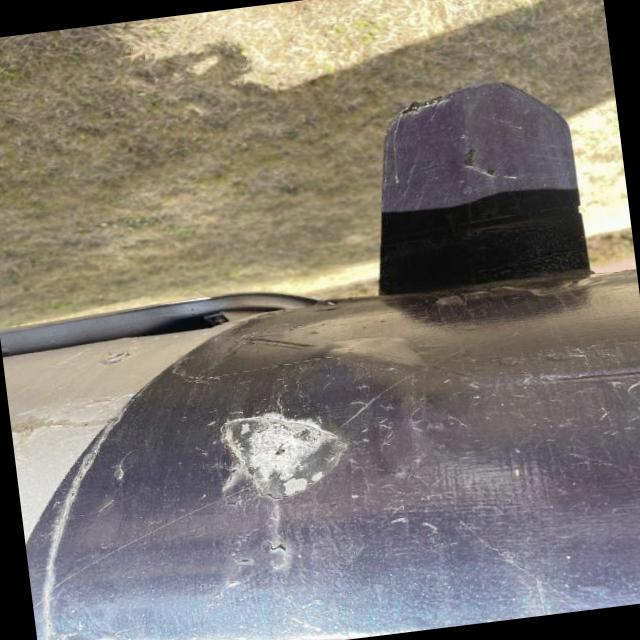crack: (217, 535, 300, 572)
dent: (202, 401, 366, 514)
